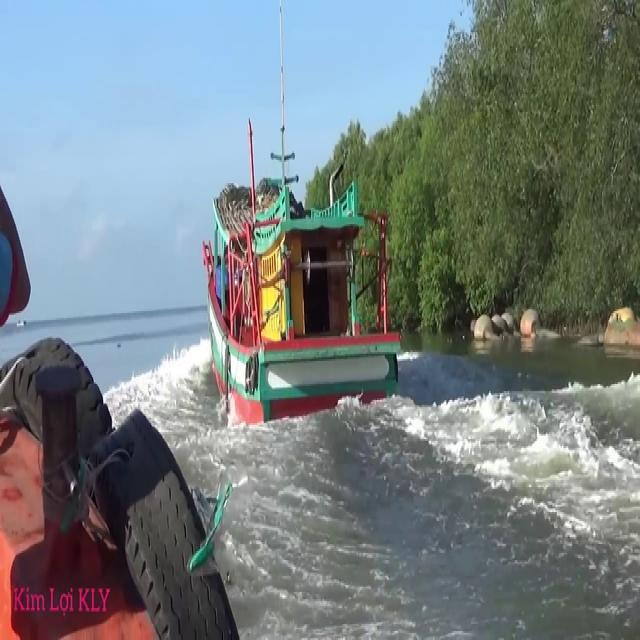Ship: (205, 174, 406, 429)
